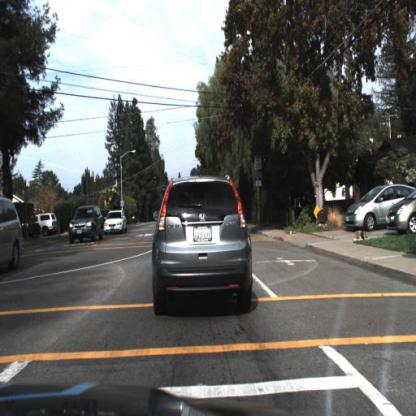car: (141, 160, 263, 339), (344, 182, 407, 234), (341, 188, 387, 238), (65, 204, 107, 249), (385, 183, 416, 235), (101, 205, 129, 237), (31, 209, 60, 235)
